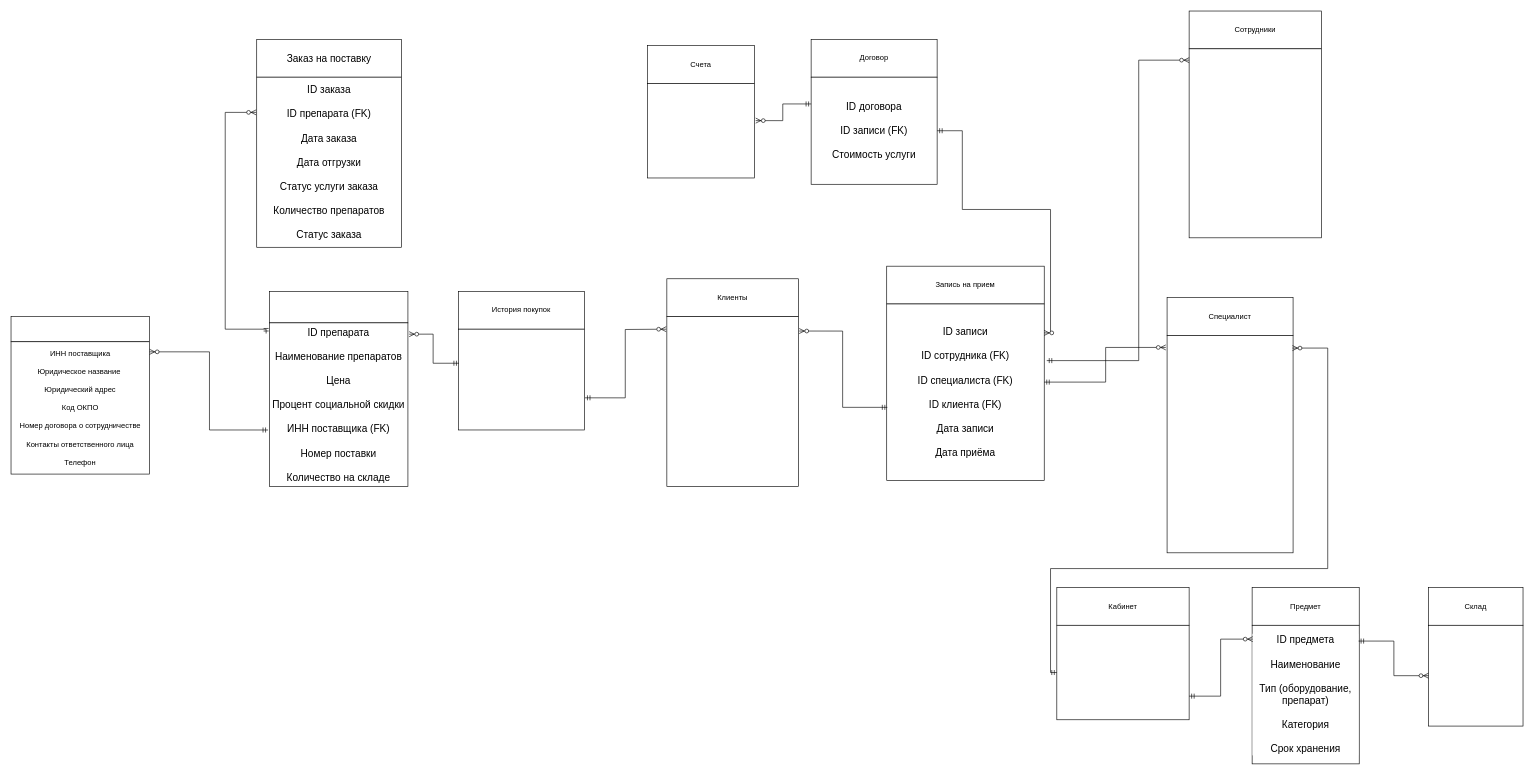
The diagram is 1534 pixels wide and 775 high, and some of its shapes have lost their labels. Here are the shapes that lost their labels. From the top down, the box of each, then its label:
(647, 83, 754, 178): ID счета ID договора ( FK ) Сумма счета Статус оплаты
(1188, 48, 1321, 238): ID сотрудника Должность Фамилия Имя Отчество Адрес Телефон Почта
(269, 291, 408, 323): Препараты
(10, 316, 150, 342): Поставщики медикаментов
(458, 329, 584, 430): ID покупки ID препарата ( FK ) ID клиента ( FK ) Дата
(666, 316, 799, 487): ID клиента Фамилия Имя Отчество Телефон Почта Размер скидки
(1166, 335, 1293, 553): ID специалиста Фамилия Имя Отчество Адрес Телефон Почта Должность График работы
(1056, 625, 1189, 720): ID кабинета ID специалиста ( FK ) ID предмета ( FK )
(1428, 625, 1523, 726): ID склада ID предмета ( FK ) Количество
